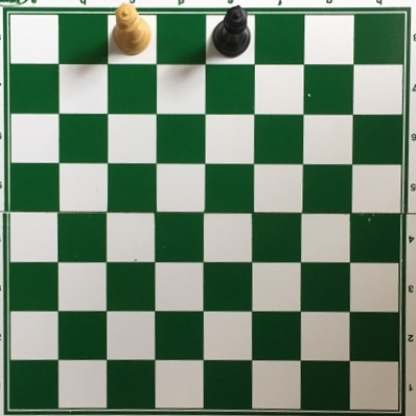black-queen: (211, 5, 253, 58)
white-queen: (112, 1, 154, 56)
